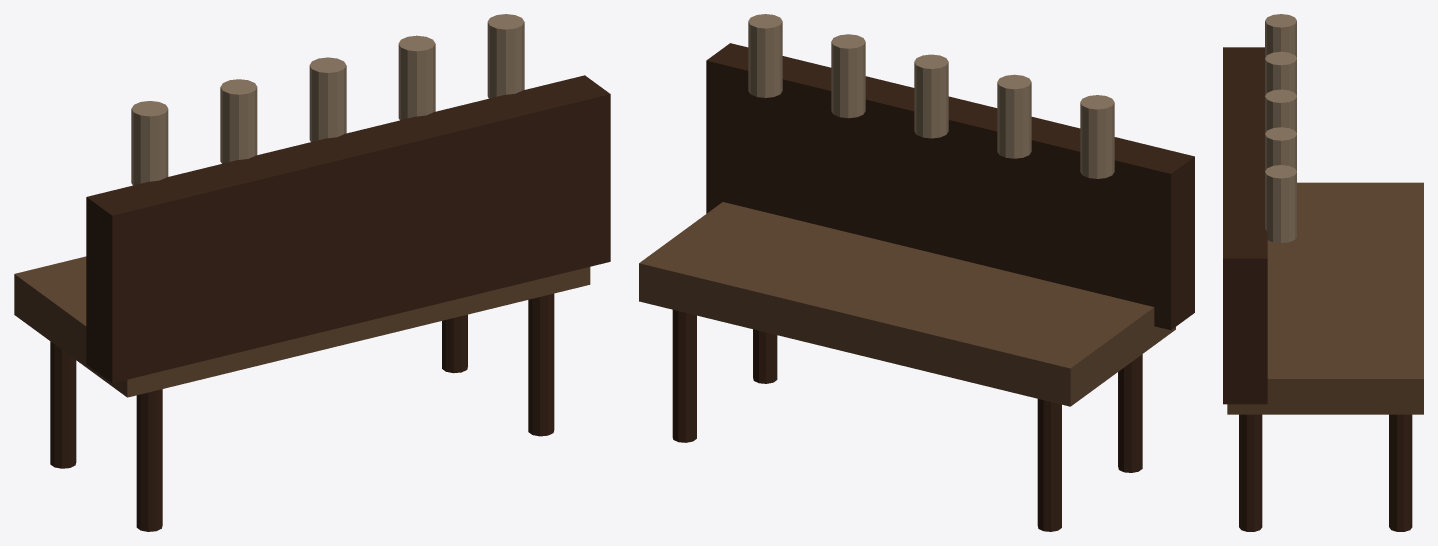
The model's file is GalakasMidCity_INT_StorageCrates_Barrels_01.obj.
The picture shows the model from 3 angles, left to right: view 1: azimuth 30°, elevation 25°; view 2: azimuth 150°, elevation 25°; view 3: azimuth 270°, elevation 25°; orthographic projection. The views are drawn at different scales.
Parts seen in each view (by area): view 1: bar_backboard, table_top, table_leg_-1_1_0_42, table_leg_1_1_0_42, table_leg_-1_1_-0_42, bottle_0, bottle_1, bottle_2, bottle_4, bottle_3, table_leg_1_1_-0_42; view 2: bar_backboard, table_top, table_leg_1_1_-0_42, table_leg_-1_1_-0_42, table_leg_-1_1_0_42, bottle_0, bottle_4, bottle_1, bottle_2, bottle_3, table_leg_1_1_0_42; view 3: table_top, bar_backboard, table_leg_1_1_-0_42, table_leg_1_1_0_42, bottle_4, bottle_2, bottle_3, bottle_1, bottle_0, bottle_0_capB, bottle_3_capB, bottle_2_capB (+2 smaller).
Part boxes in pixels (left/top/right/bottom): bar_backboard: left=86, top=75, right=610, bottom=383; table_top: left=14, top=256, right=590, bottom=397; table_leg_-1_1_0_42: left=136, top=389, right=162, bottom=531; table_leg_1_1_0_42: left=528, top=293, right=554, bottom=436; table_leg_-1_1_-0_42: left=50, top=341, right=76, bottom=468; bottle_0: left=131, top=109, right=168, bottom=185; bottle_1: left=220, top=87, right=257, bottom=163; bottle_2: left=309, top=65, right=346, bottom=141; bottle_4: left=487, top=22, right=524, bottom=98; bottle_3: left=398, top=44, right=435, bottom=120; table_leg_1_1_-0_42: left=442, top=314, right=467, bottom=373; bar_backboard: left=706, top=43, right=1194, bottom=330; table_top: left=639, top=202, right=1175, bottom=406; table_leg_1_1_-0_42: left=672, top=310, right=696, bottom=442; table_leg_-1_1_-0_42: left=1037, top=399, right=1061, bottom=531; table_leg_-1_1_0_42: left=1118, top=354, right=1142, bottom=472; bottle_0: left=1080, top=103, right=1114, bottom=178; bottle_4: left=748, top=22, right=782, bottom=97; bottle_1: left=997, top=82, right=1031, bottom=158; bottle_2: left=914, top=62, right=948, bottom=138; bottle_3: left=831, top=42, right=865, bottom=118; table_leg_1_1_0_42: left=753, top=329, right=777, bottom=383; table_top: left=1227, top=182, right=1423, bottom=414; bar_backboard: left=1223, top=47, right=1267, bottom=404; table_leg_1_1_-0_42: left=1389, top=414, right=1412, bottom=531; table_leg_1_1_0_42: left=1239, top=414, right=1262, bottom=531; bottle_4: left=1265, top=172, right=1296, bottom=243; bottle_2: left=1265, top=97, right=1296, bottom=133; bottle_3: left=1265, top=134, right=1296, bottom=171; bottle_1: left=1265, top=59, right=1296, bottom=95; bottle_0: left=1265, top=21, right=1296, bottom=57; bottle_0_capB: left=1265, top=14, right=1296, bottom=27; bottle_3_capB: left=1265, top=127, right=1296, bottom=140; bottle_2_capB: left=1265, top=89, right=1296, bottom=102.
Size of the model in its own units: 2.8 by 2.15 by 1.12.
